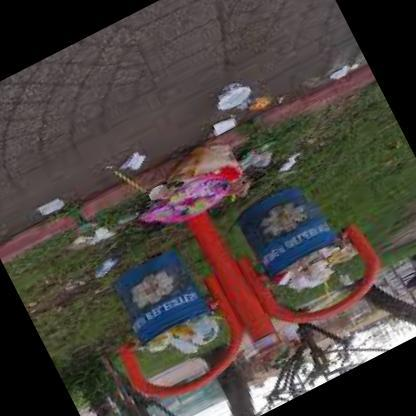Garbage: (69, 67, 304, 251), (140, 134, 262, 232), (146, 305, 226, 370), (279, 239, 359, 302), (15, 189, 80, 241), (206, 64, 260, 116), (116, 144, 152, 176), (75, 260, 111, 289), (244, 152, 270, 181), (277, 154, 306, 178), (80, 228, 110, 250), (209, 123, 235, 142)
